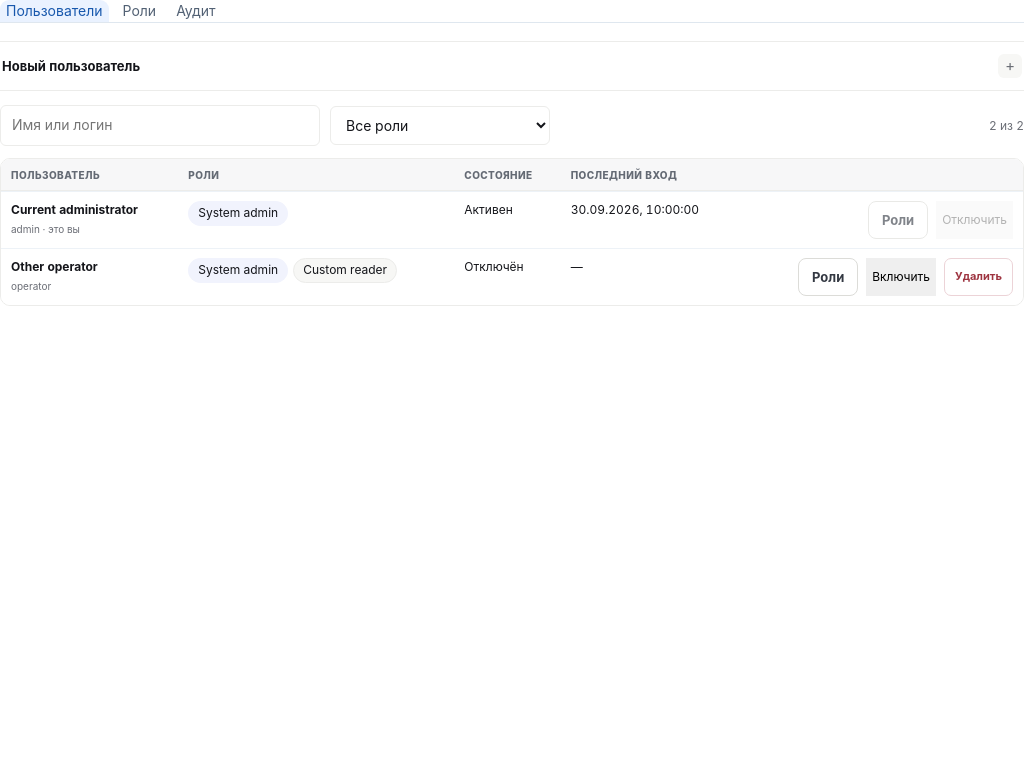
Test case: user access management › shows removed roles, requires at least one role and cancels without a request
Expected: the text "Other operator" is shown, [11,259,98,274]
Click the button with aria-label "Изменить роли: Other operator" at [828, 277], box [798,258,858,296]
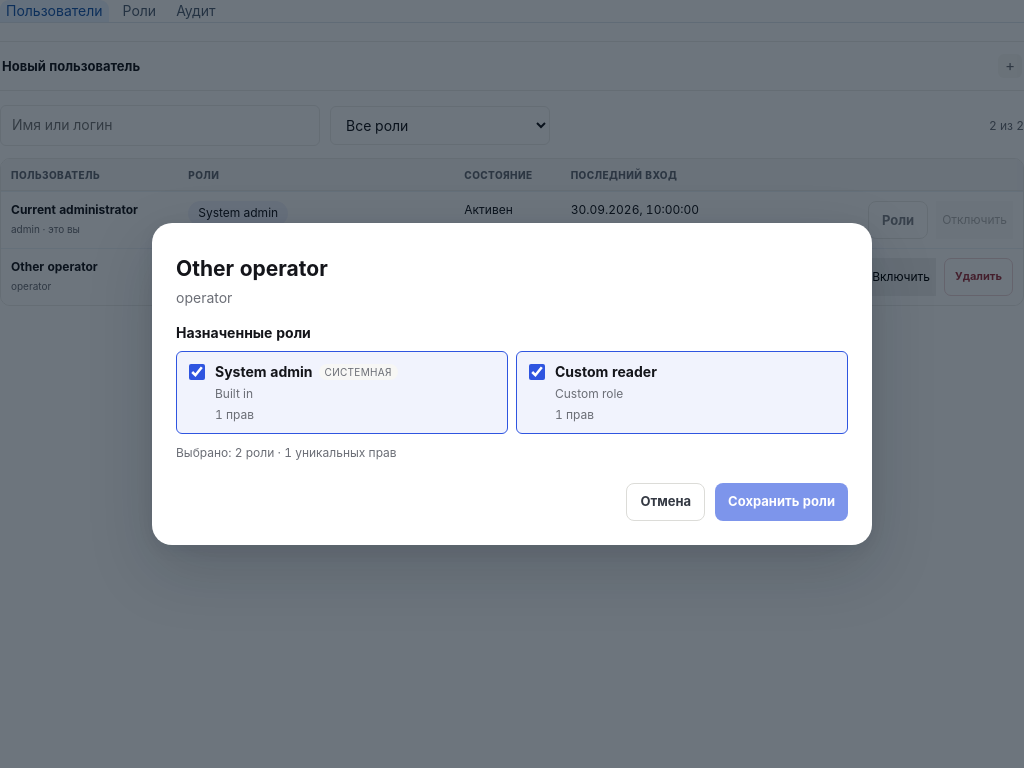
Click the checkbox labelled "System admin системная Built in 1 прав" at [197, 372], box [189,364,205,380]
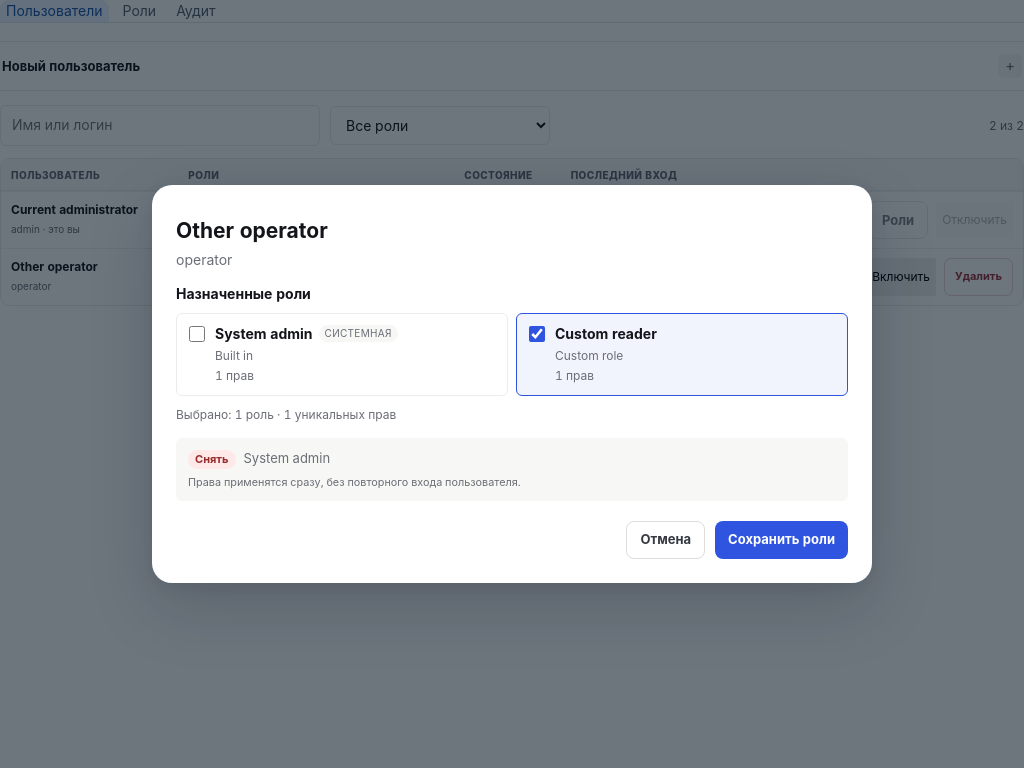
Expected: the text "Снять" is shown, [188,450,236,469]
Expected: the text "Права применятся сразу, без повторного входа пользователя." is shown, [188,476,521,489]
Click the checkbox labelled "Custom reader Custom role 1 прав" at [537, 334], box [529,326,545,342]
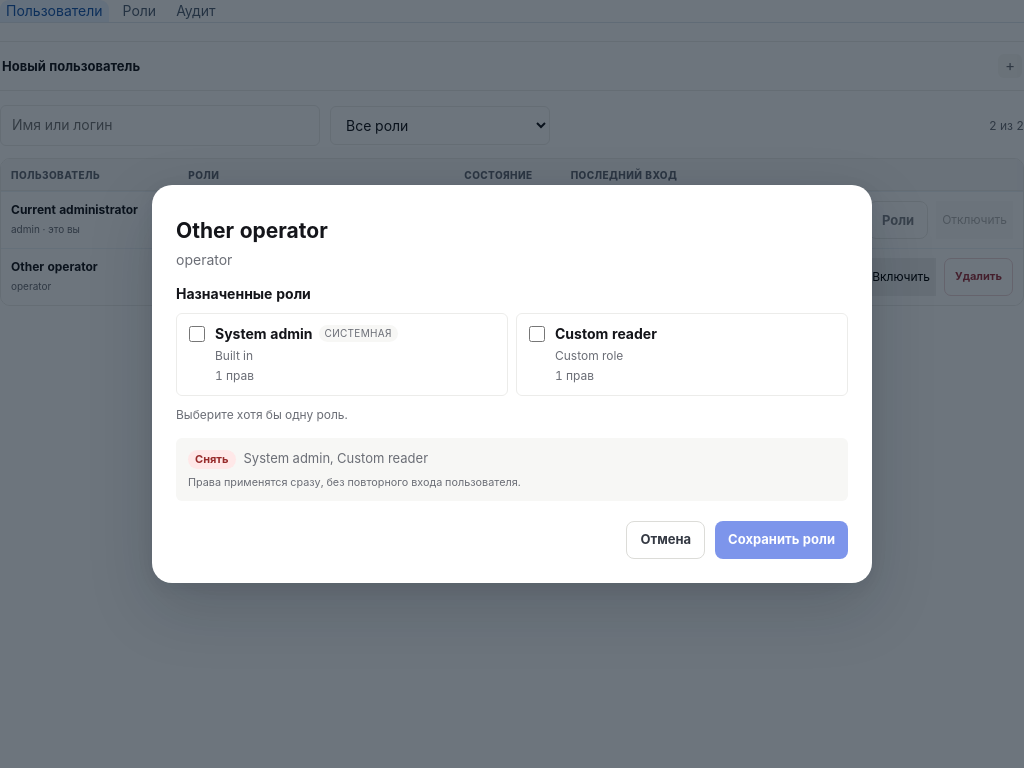
Expected: the text "Выберите хотя бы одну роль." is shown, [176,407,348,422]
Expected: the button "Сохранить роли" is disabled, [715,521,848,559]
Click the button "Отмена" at [666, 540], box [626,521,705,559]
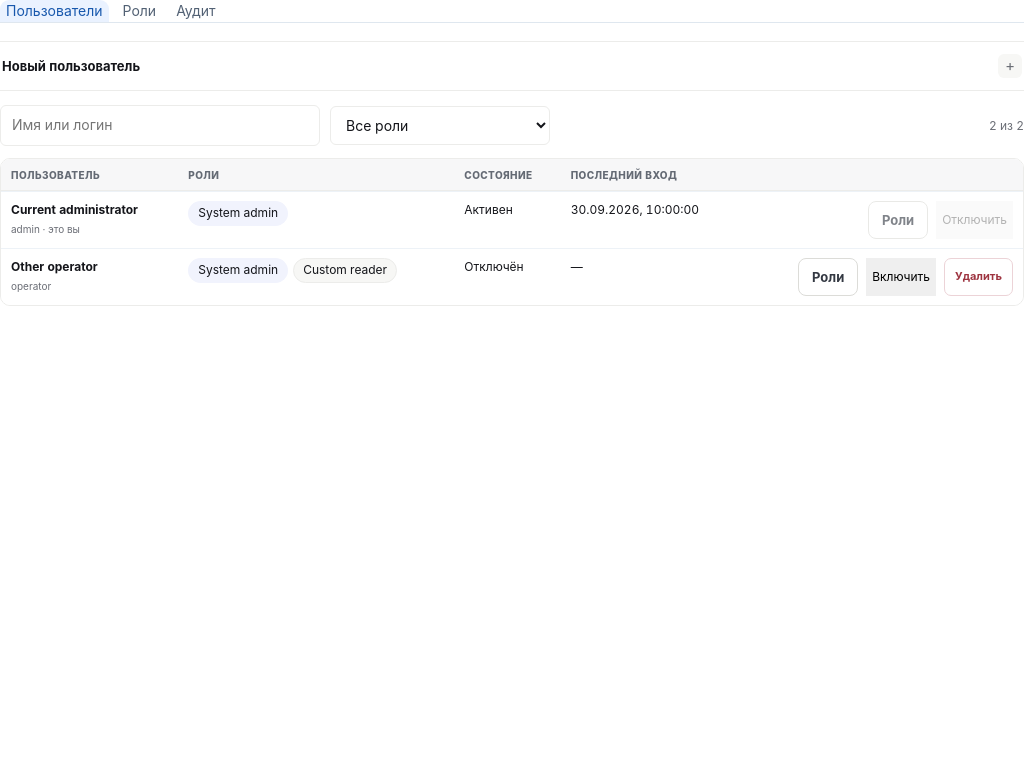
Expected: the dialog is gone
